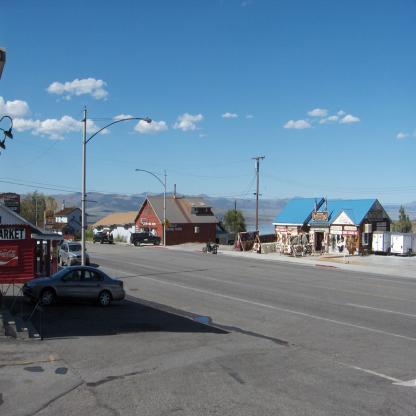Car: (27, 263, 128, 309), (59, 241, 89, 266), (94, 232, 116, 245)
